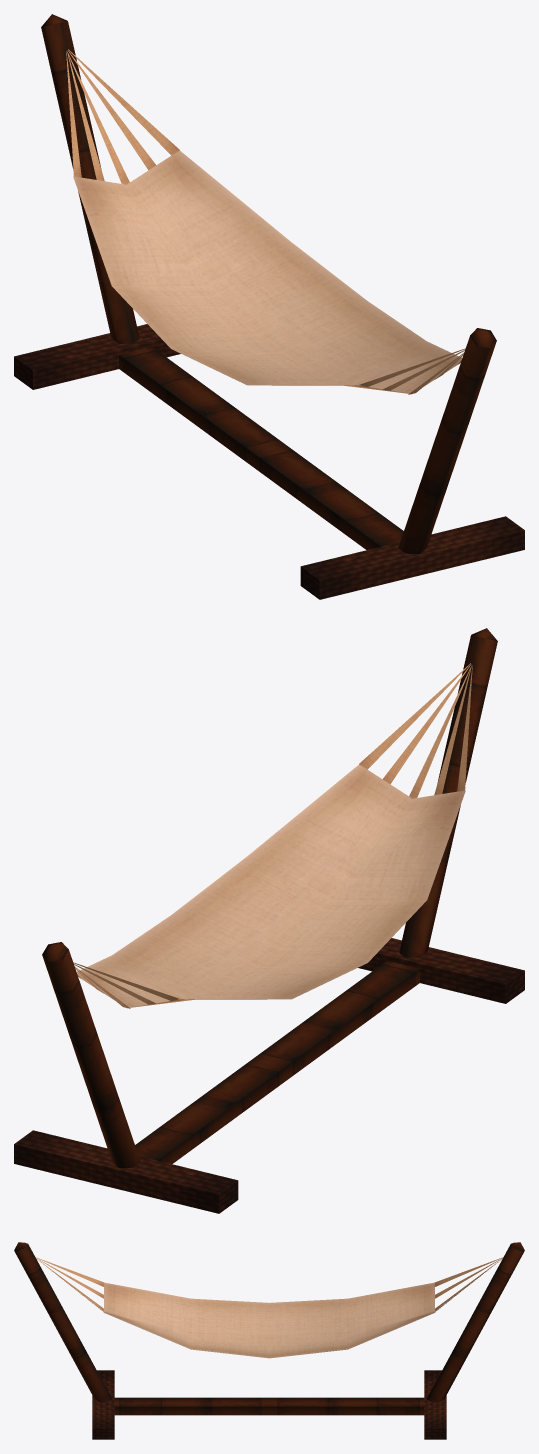
File: ETC0610005.fbx
3 views of the same model, one above another, from view 1: azimuth 30°, elevation 25°; view 2: azimuth 150°, elevation 25°; view 3: azimuth 270°, elevation 25° (orthographic). The views are drawn at different scales.
Visible parts, largest first — view 1: smETC0610005; view 2: smETC0610005; view 3: smETC0610005.
Boxes of the visible parts, x1,y1,x2,y2 form: smETC0610005: [14, 14, 524, 599]; smETC0610005: [14, 628, 524, 1213]; smETC0610005: [14, 1242, 524, 1439].
Size of the model in its own units: 132 by 178 by 490.
1 material, 1 textured.
